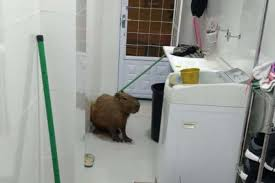capivara: (90, 90, 140, 144)
